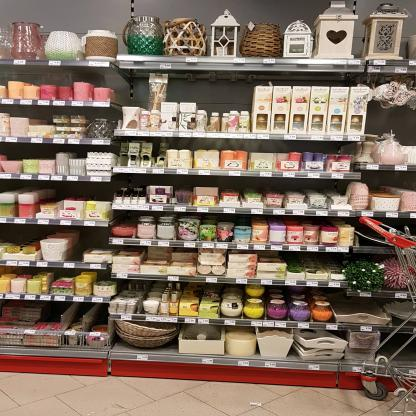Void: (291, 252, 341, 263), (79, 229, 105, 248), (4, 227, 35, 239), (370, 172, 388, 191), (44, 305, 58, 318)
